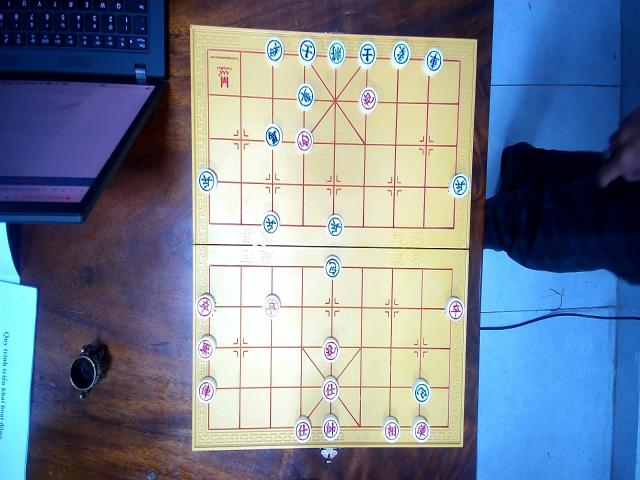piece: (422, 47, 443, 76), (326, 39, 346, 68), (265, 36, 285, 65), (448, 172, 469, 199), (390, 41, 410, 69), (196, 335, 216, 363), (358, 86, 378, 114), (196, 377, 216, 404), (411, 378, 431, 405), (298, 37, 316, 66), (294, 415, 312, 444), (197, 168, 217, 194), (444, 296, 464, 322), (381, 416, 400, 443), (411, 416, 430, 443), (296, 83, 315, 110), (295, 127, 314, 154), (322, 337, 340, 365), (322, 414, 340, 441), (264, 123, 282, 150), (196, 294, 214, 320), (358, 41, 376, 67), (321, 377, 339, 402), (326, 213, 344, 238), (263, 294, 281, 318), (262, 212, 280, 236), (324, 254, 342, 278)
